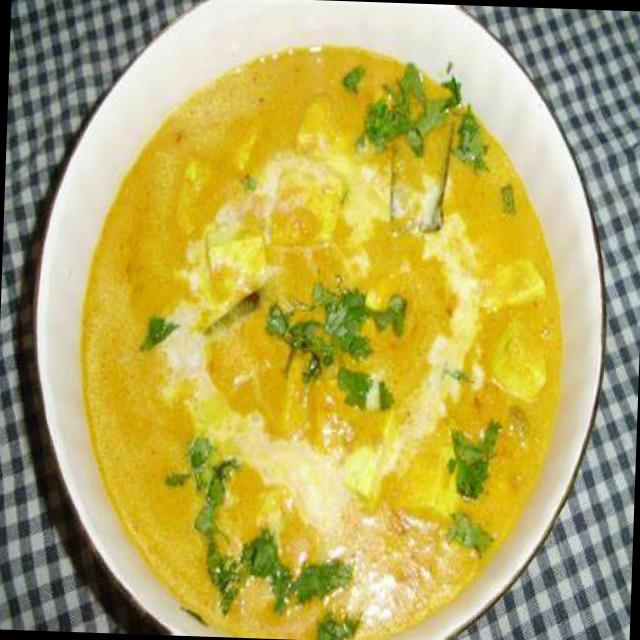ShahiPaneer: (74, 37, 574, 640)
